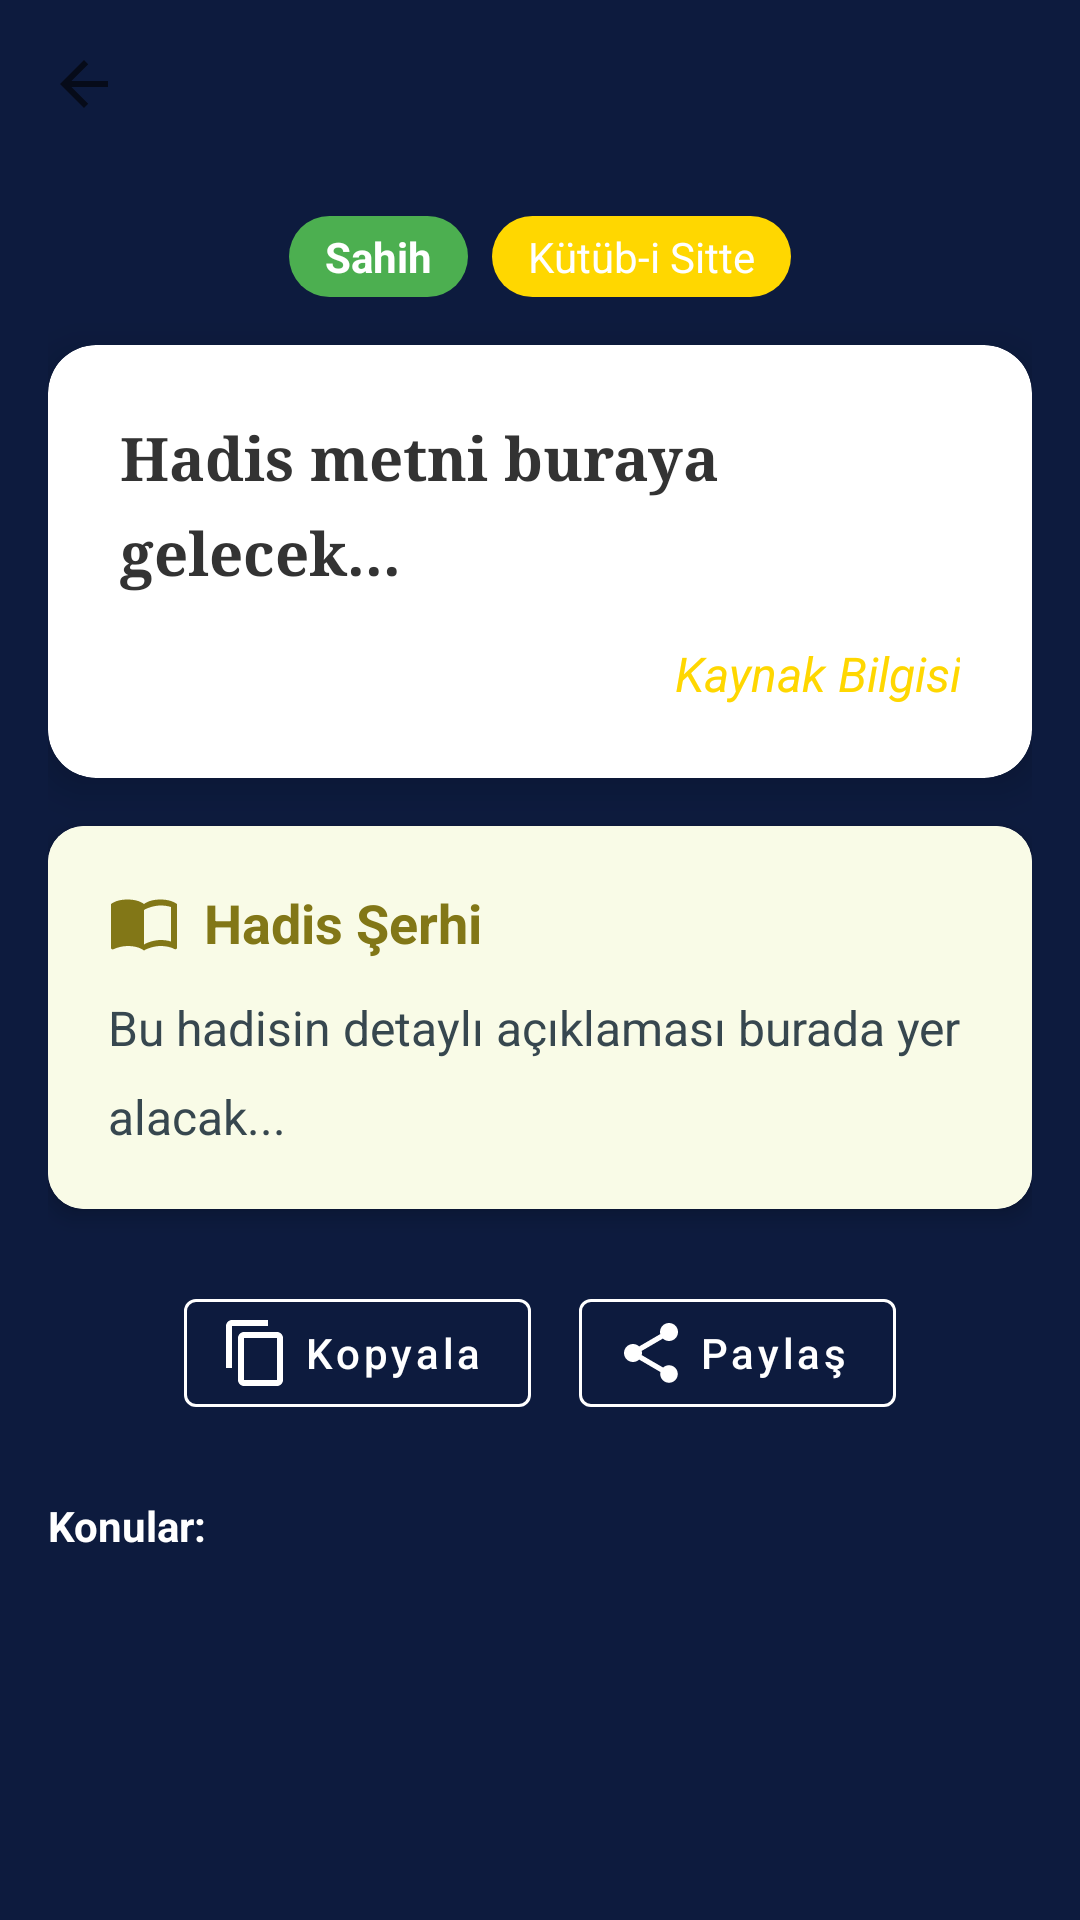

Icon bounding boxes for this 1080 x 1920 phone screenshot, format (x1, y1, x2, y2):
book: (111, 899, 177, 951)
